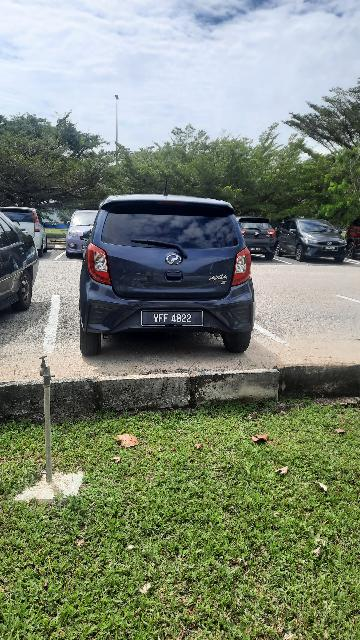License_Plate: (141, 310, 208, 331)
car: (76, 192, 258, 355)
